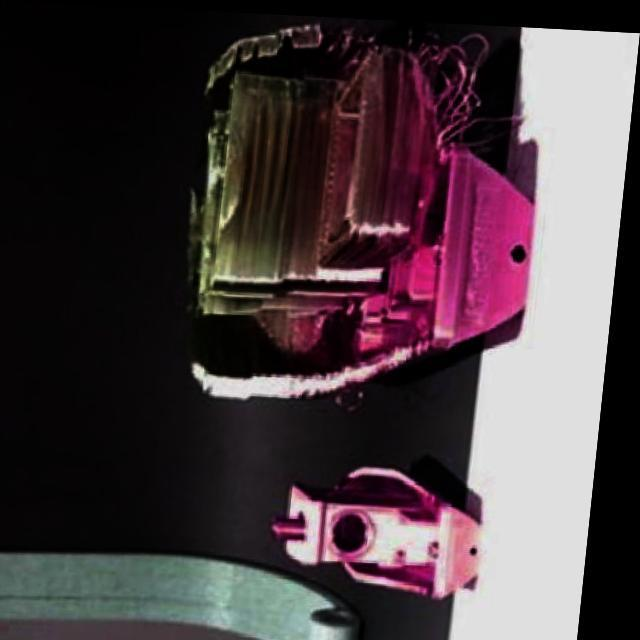spaghetti: (406, 26, 532, 148), (319, 14, 384, 80), (327, 77, 370, 118), (338, 376, 375, 410)
